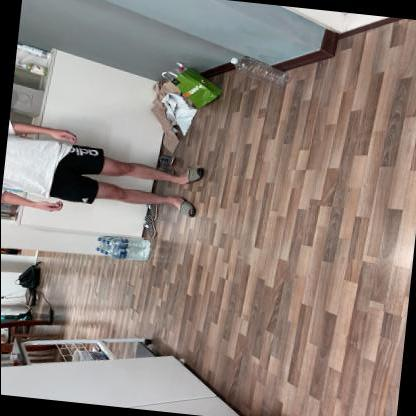no_safety-shoe: (172, 159, 215, 191), (165, 192, 207, 223)
